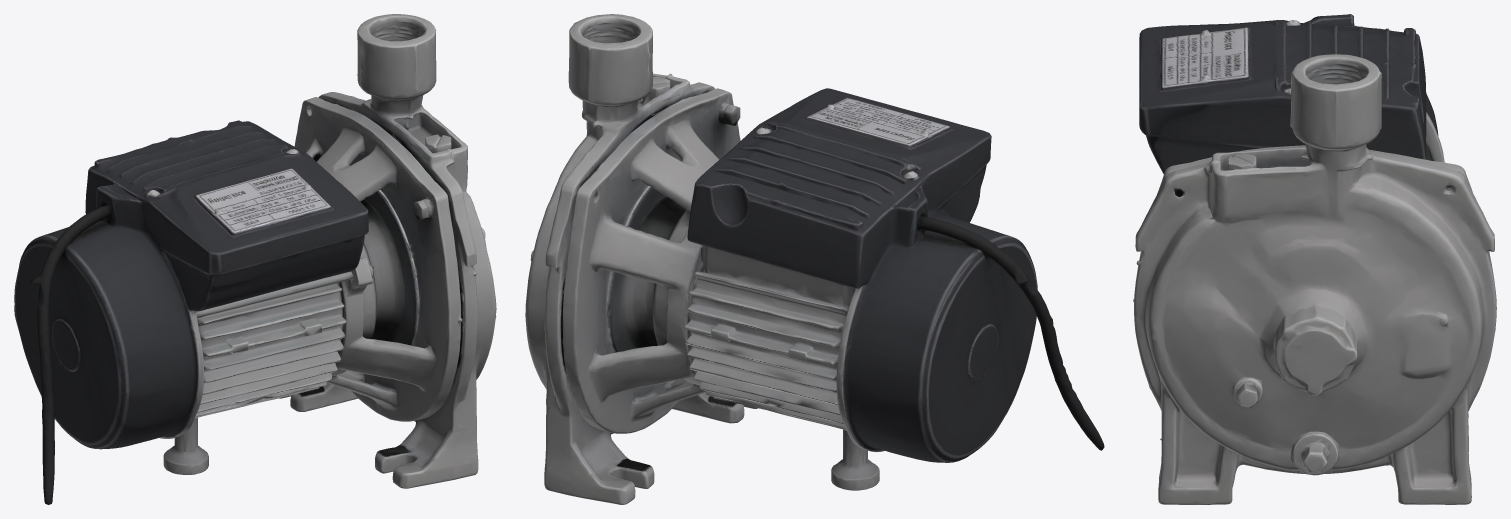
Rendered from testooo.glb.
3 renders of one model, left to right at view 1: azimuth 30°, elevation 25°; view 2: azimuth 150°, elevation 25°; view 3: azimuth 270°, elevation 25°, orthographic. The views are drawn at different scales.
Parts seen in each view (by area): view 1: tripo_node_47c770a6-930d-4bf5-a658-5521162c926e; view 2: tripo_node_47c770a6-930d-4bf5-a658-5521162c926e; view 3: tripo_node_47c770a6-930d-4bf5-a658-5521162c926e.
Part boxes in pixels (x1,y1,x2,y2): tripo_node_47c770a6-930d-4bf5-a658-5521162c926e: (14, 14, 496, 504); tripo_node_47c770a6-930d-4bf5-a658-5521162c926e: (525, 14, 1104, 504); tripo_node_47c770a6-930d-4bf5-a658-5521162c926e: (1133, 14, 1496, 504).
Size of the model in its own units: 1 by 0.7846 by 0.5956.
Materials: 1 (1 with a texture image).
